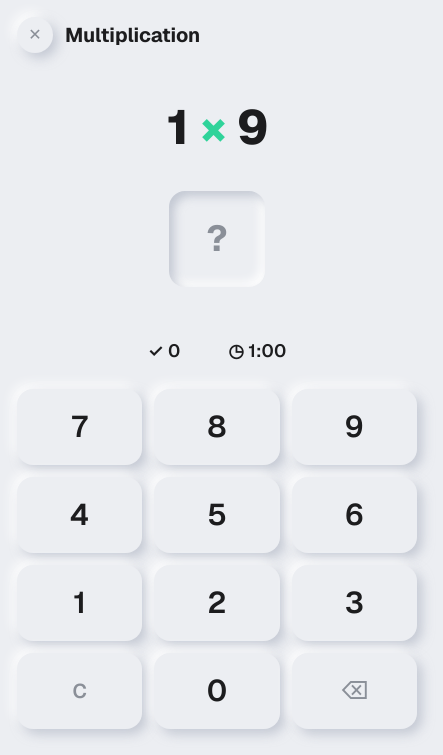
Test: Game — écho du résultat trouvé › est recouvert dès la première frappe
Press the mouse on the button named "Chiffre 9" at (354, 427), box x1=292 y1=389 x2=417 y2=465
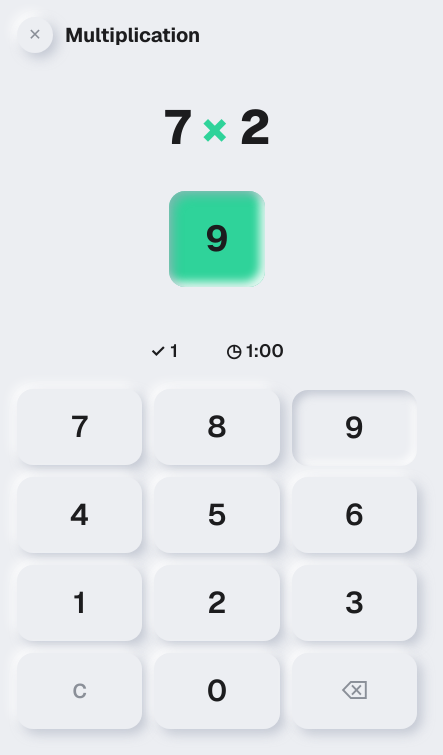
Expected: the text "9" is shown, x1=206 y1=219 x2=228 y2=259
Press the mouse on the button named "Chiffre 0" at (217, 691), box x1=154 y1=653 x2=280 y2=729
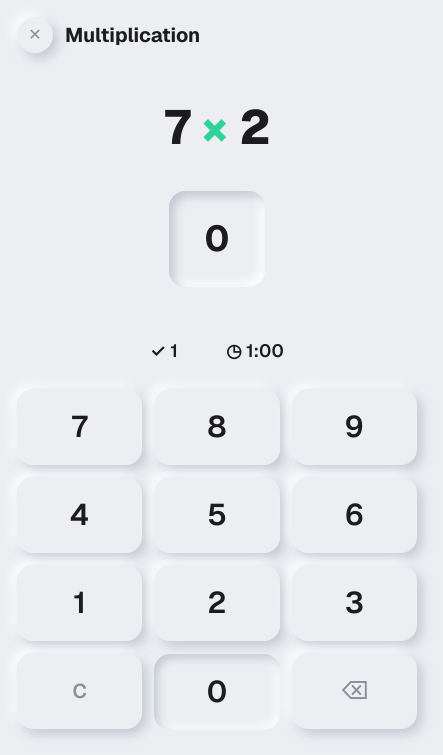
Expected: the text with test id "answer-echo" is gone
Expected: the text with test id "answer" reads "0", x1=204 y1=215 x2=230 y2=262
